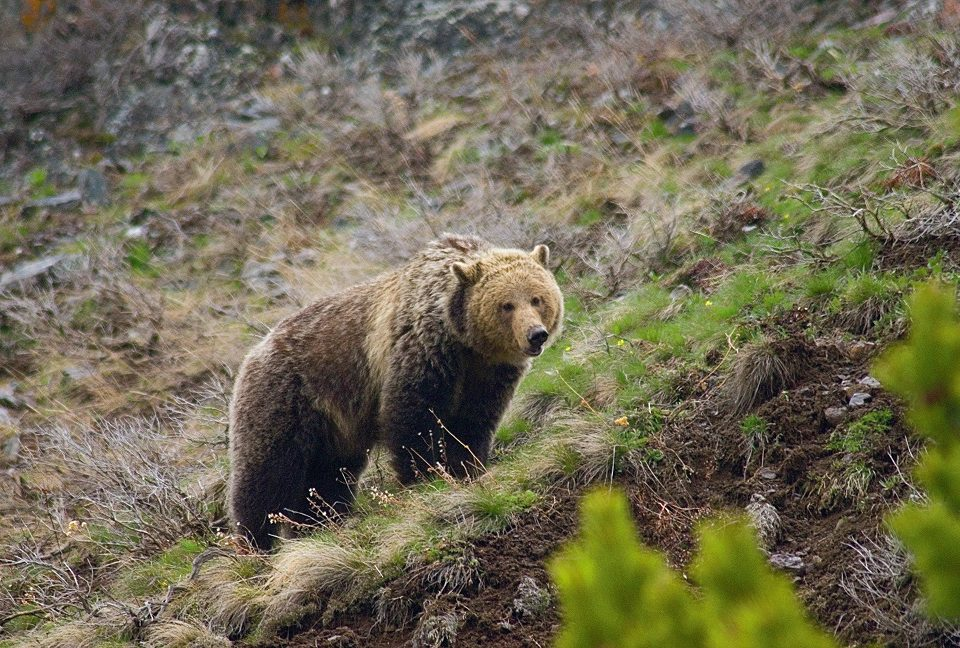bear: (441, 239, 574, 363)
